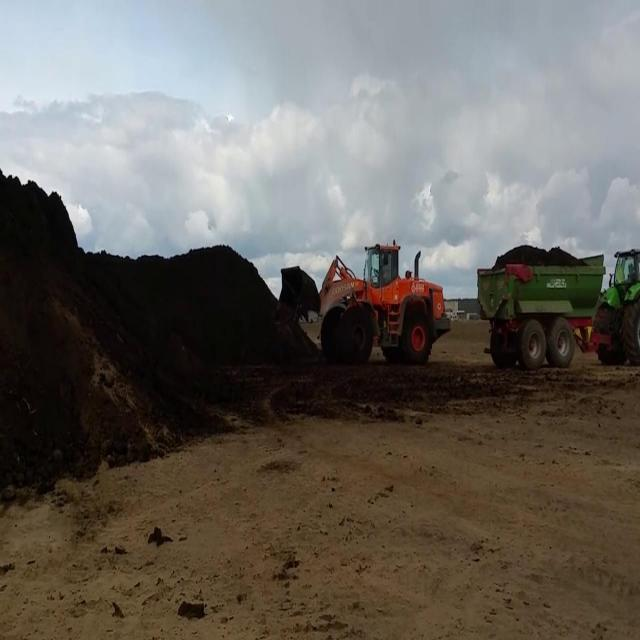Dump Truck: (474, 239, 640, 369)
Loader: (277, 239, 451, 364)
